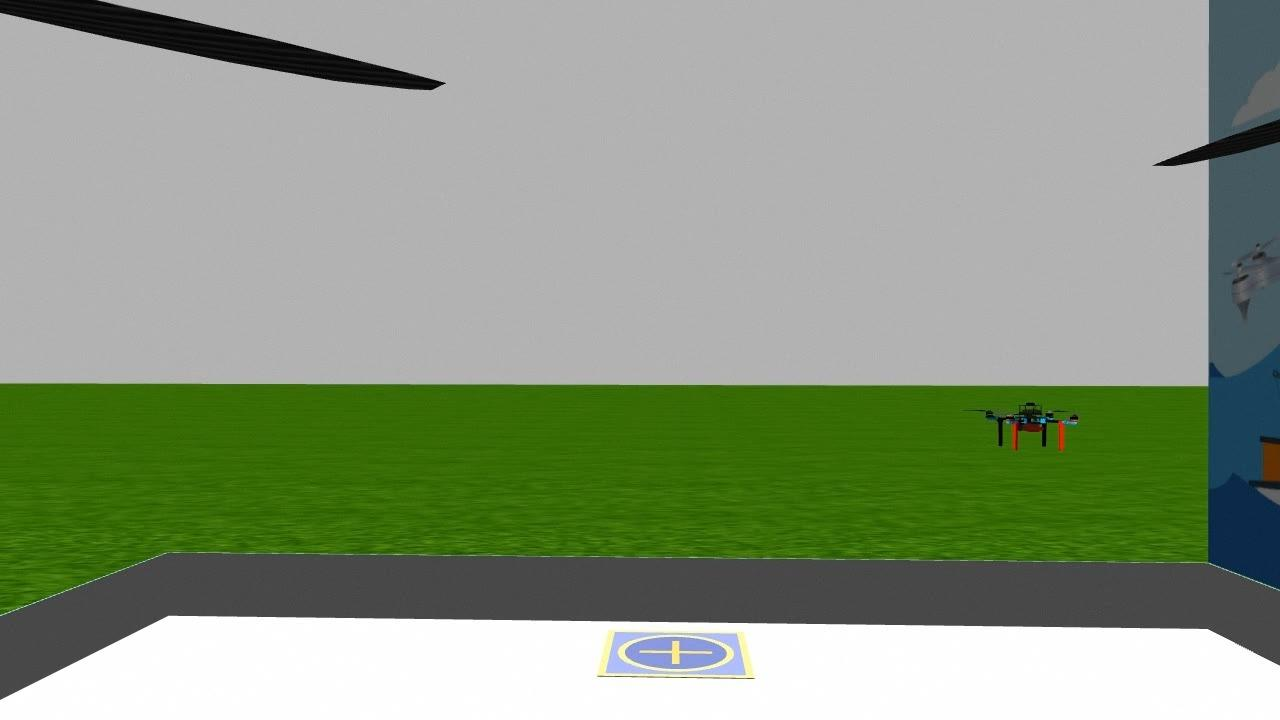UAV: (980, 391, 1088, 463)
